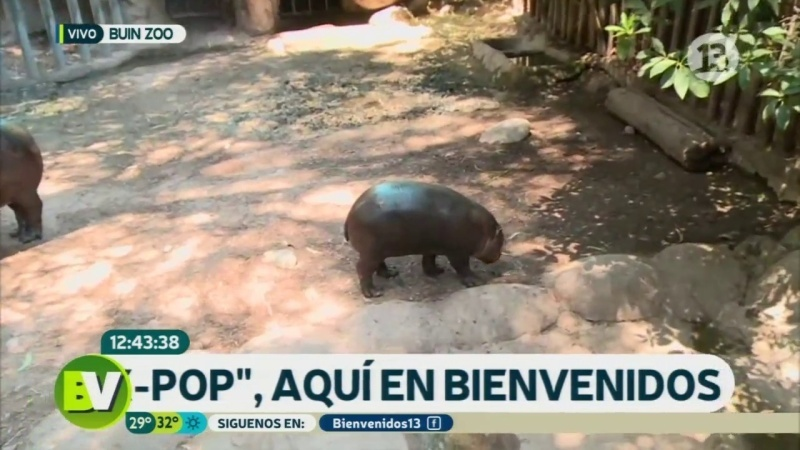hipopotamo: (327, 172, 522, 312)
